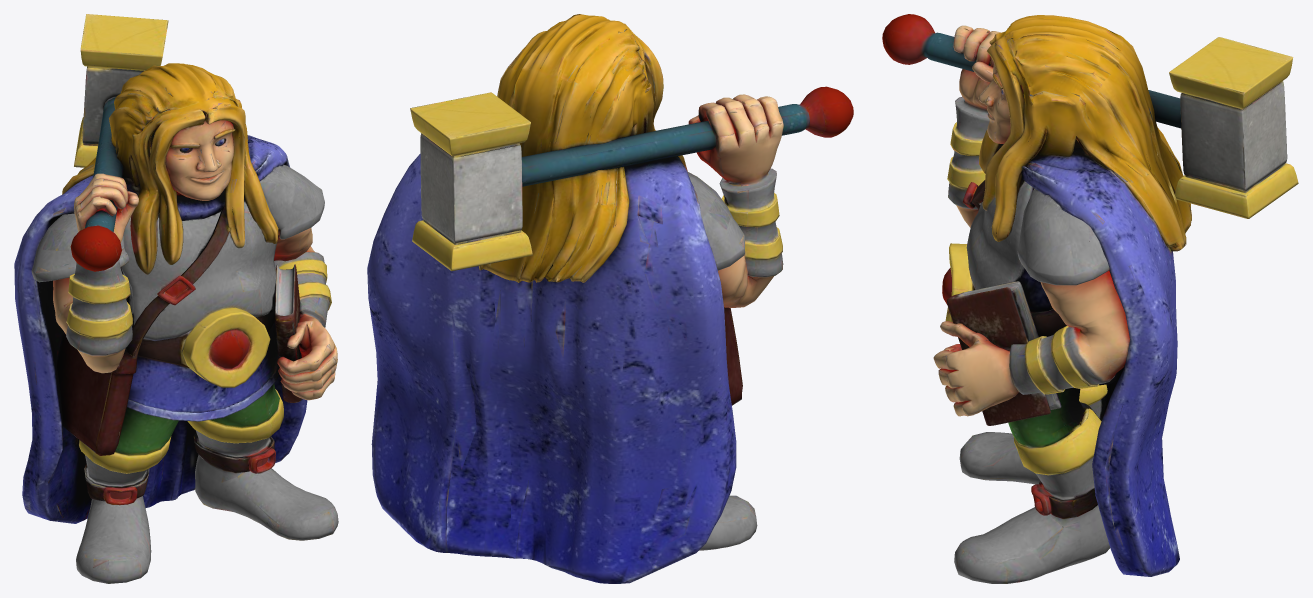
Rendered from MZ4250 - Dwarf Cleric.glb.
The picture shows the model from 3 angles, left to right: view 1: azimuth 30°, elevation 25°; view 2: azimuth 150°, elevation 25°; view 3: azimuth 270°, elevation 25°; orthographic projection. The views are drawn at different scales.
Parts seen in each view (by area): view 1: default; view 2: default; view 3: default.
Part boxes in pixels (<box>): default: <box>14,14,338,583</box>; default: <box>367,14,853,583</box>; default: <box>882,14,1298,583</box>.
Bounding box in the file's own units: 0.6036 × 0.7926 × 0.603.
Materials: 1 (1 with a texture image).
